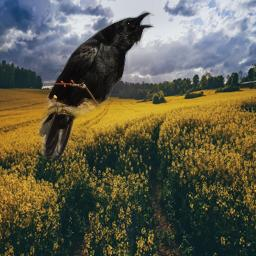Crow: (37, 9, 155, 159)
